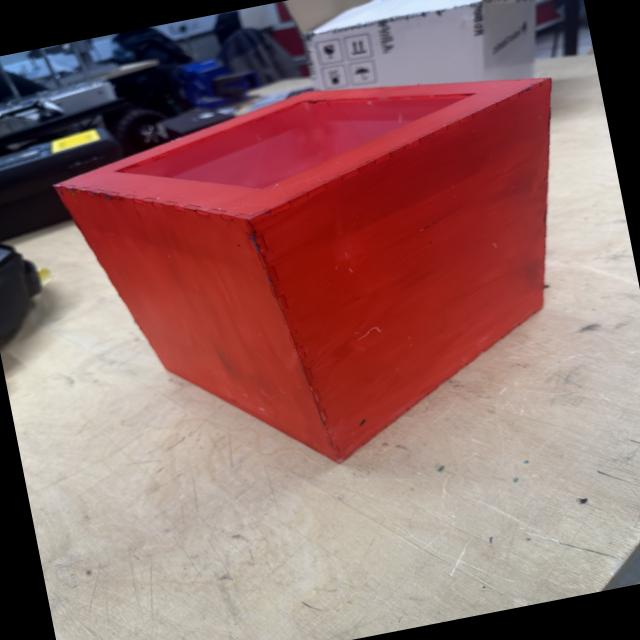red_bin: (46, 45, 617, 508)
